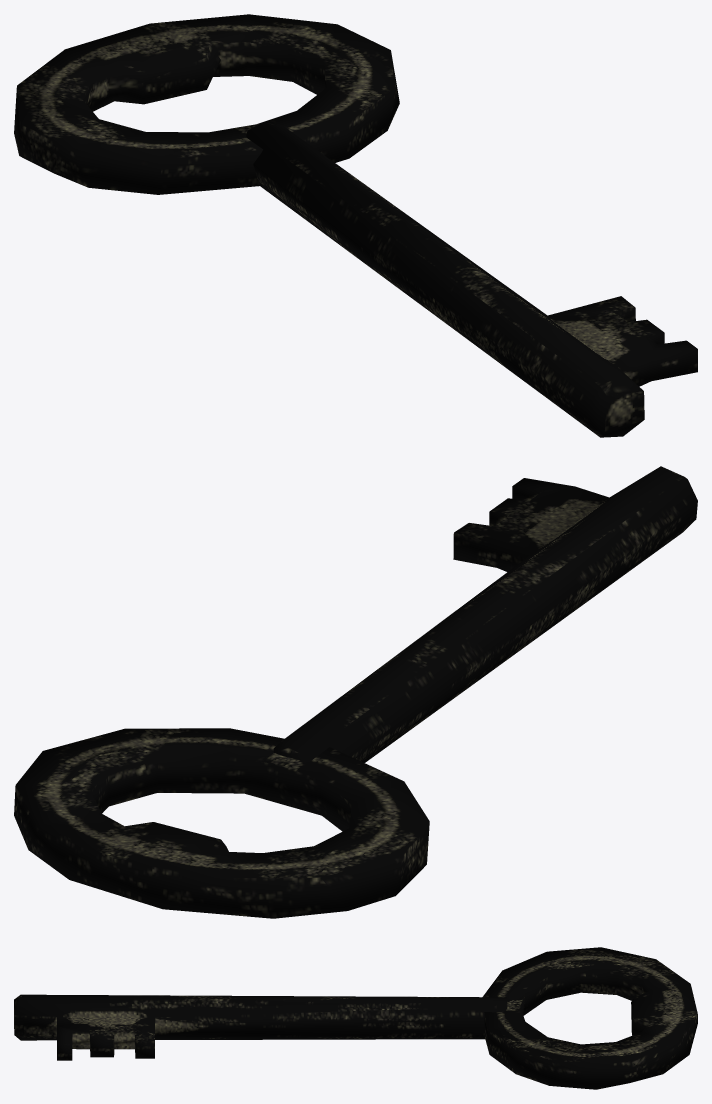
File: kluch.fbx
3 views of the same model, one above another, from view 1: azimuth 30°, elevation 25°; view 2: azimuth 150°, elevation 25°; view 3: azimuth 270°, elevation 25° (orthographic). The views are drawn at different scales.
Parts seen in each view (by area): view 1: Key_in_casket; view 2: Key_in_casket; view 3: Key_in_casket.
Part boxes in pixels (x1,y1,x2,y2): Key_in_casket: [14, 14, 697, 437]; Key_in_casket: [14, 466, 697, 918]; Key_in_casket: [14, 947, 697, 1089].
Bounding box in the file's own units: 3.23 × 0.5248 × 7.88.
